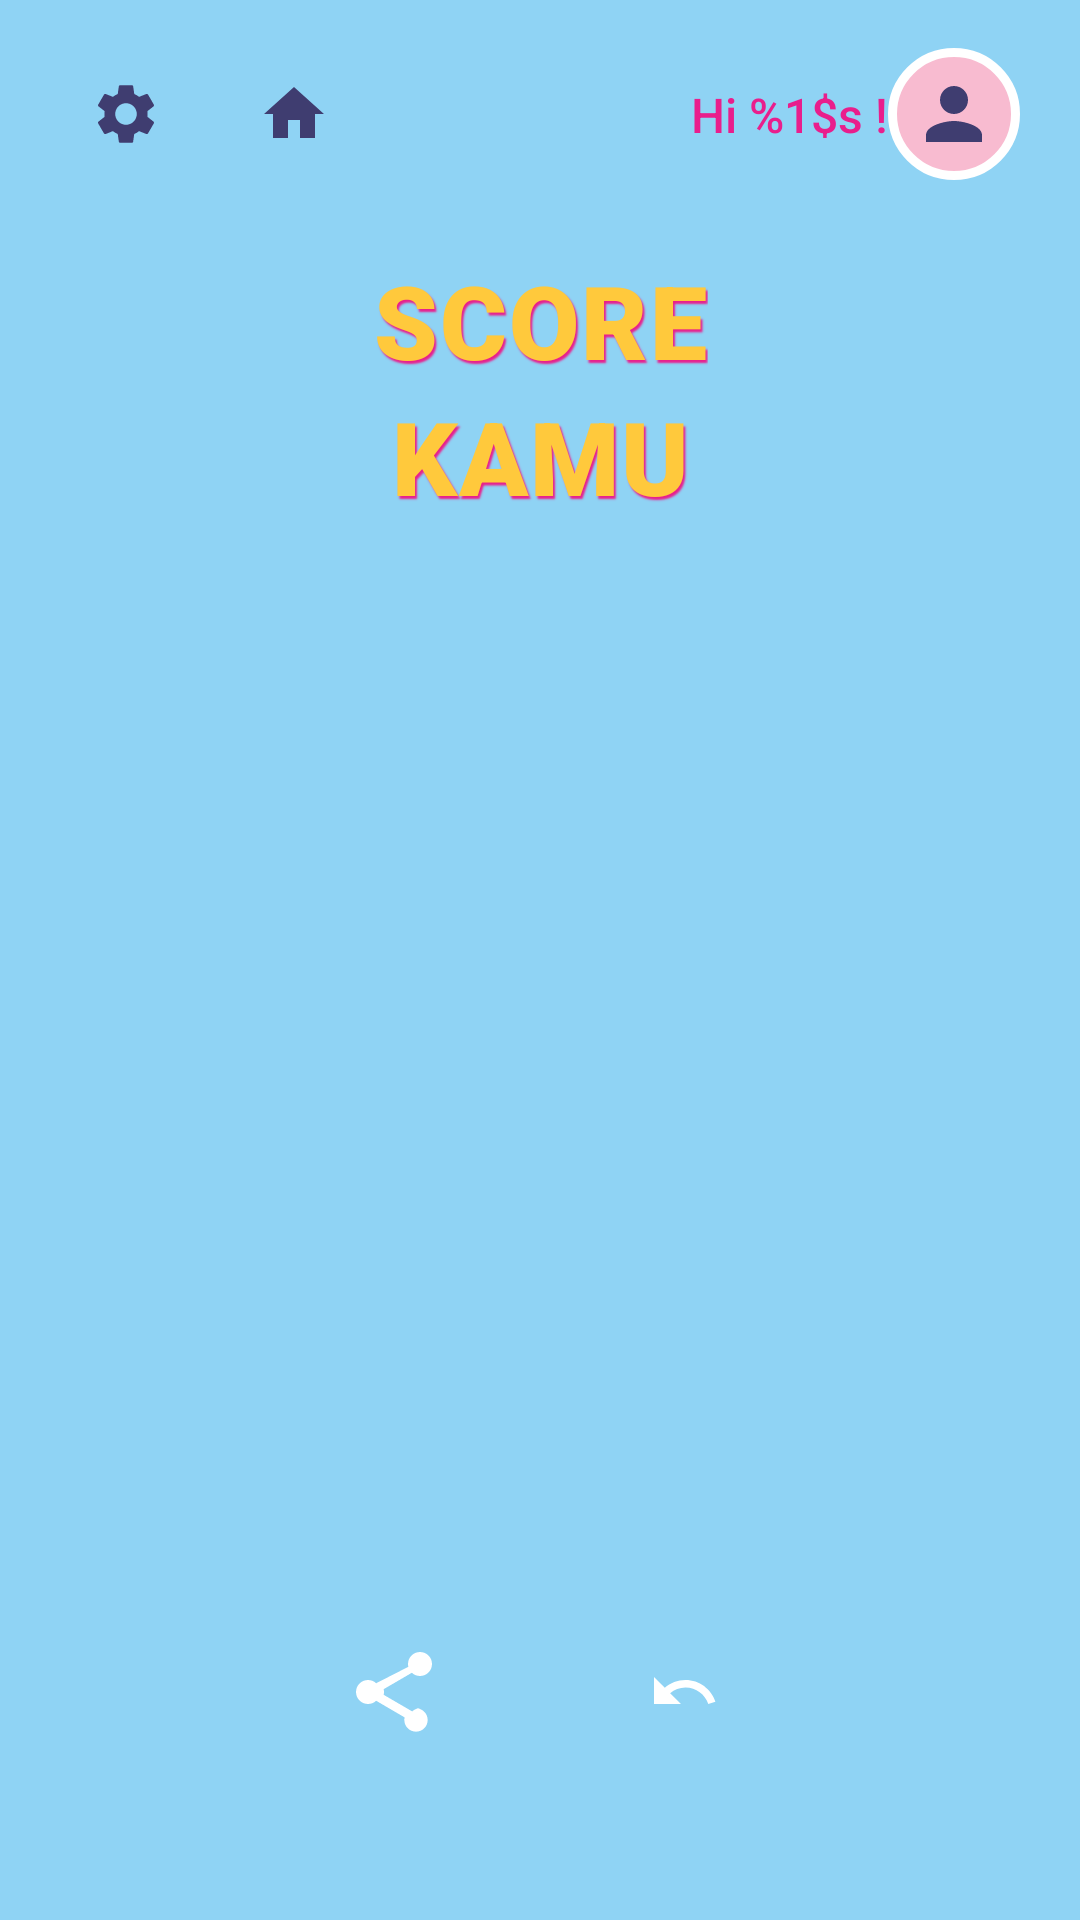

Point at icon controls on the screen. Image size 1080w x 1920h, points as point (x, y).
back curved: point (684, 1690)
home: point (294, 112)
Pengaturan: point (126, 114)
person: point (954, 114)
share: point (394, 1692)
